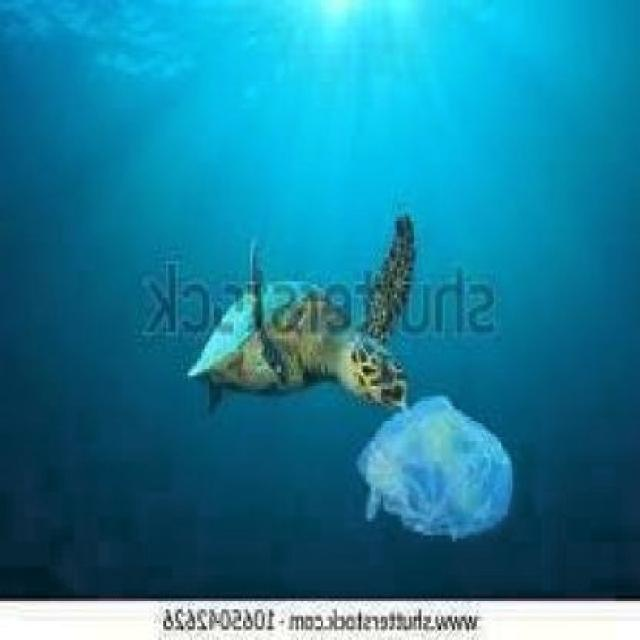pbag: (355, 393, 520, 545)
